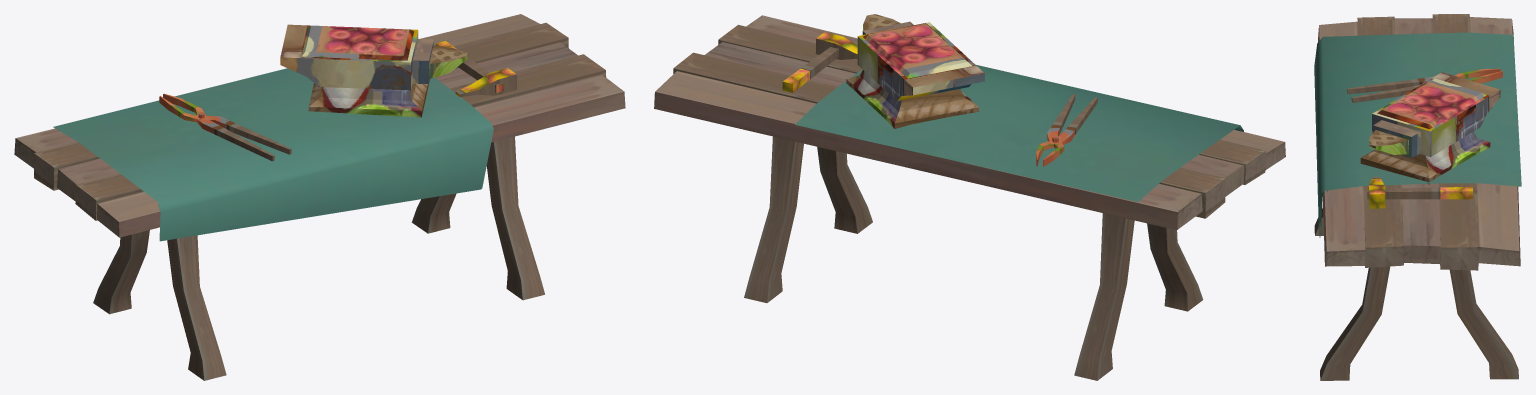
The model's file is Homeworld_Exterior_Md_Table_Table_02_Vo.fbx.
3 renders of one model, left to right at view 1: azimuth 30°, elevation 25°; view 2: azimuth 150°, elevation 25°; view 3: azimuth 270°, elevation 25°, orthographic. The views are drawn at different scales.
Parts seen in each view (by area): view 1: Homeworld_Exterior_Md_Table_Table_02_Vo; view 2: Homeworld_Exterior_Md_Table_Table_02_Vo; view 3: Homeworld_Exterior_Md_Table_Table_02_Vo.
Boxes of the visible parts, x1,y1,x2,y2 form: Homeworld_Exterior_Md_Table_Table_02_Vo: [14, 14, 625, 380]; Homeworld_Exterior_Md_Table_Table_02_Vo: [654, 14, 1285, 380]; Homeworld_Exterior_Md_Table_Table_02_Vo: [1314, 14, 1521, 380].
Bounding box in the file's own units: 2.38 × 1.06 × 0.8935.
